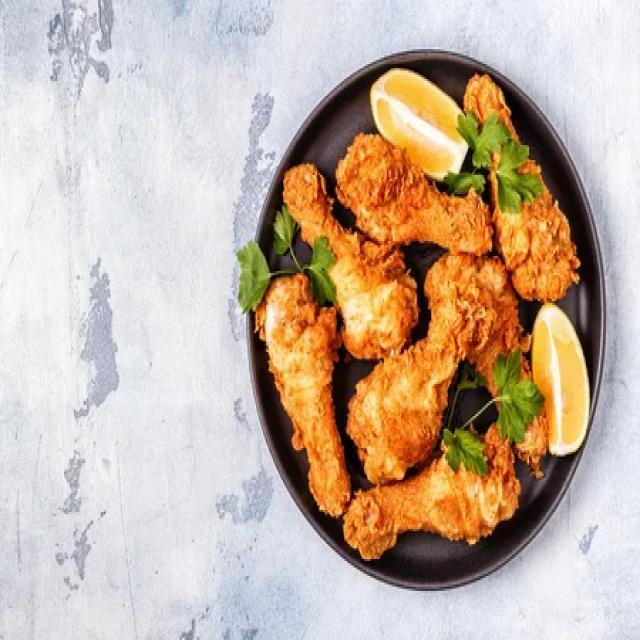Frango: (256, 68, 576, 563)
